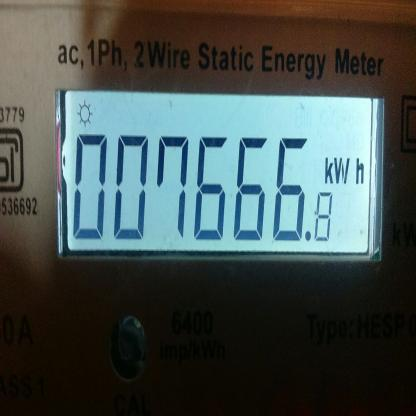.: (320, 155, 367, 187)
0: (301, 230, 314, 242)
1: (110, 130, 148, 239), (74, 128, 108, 240)
7: (190, 132, 231, 243), (233, 131, 267, 241), (273, 136, 306, 245)
8: (155, 133, 189, 239)
9: (310, 189, 337, 244)
